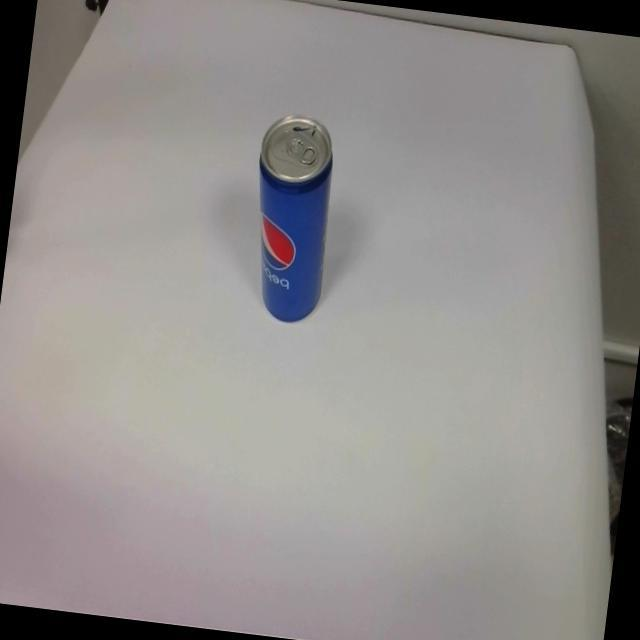debris: (238, 110, 342, 326)
